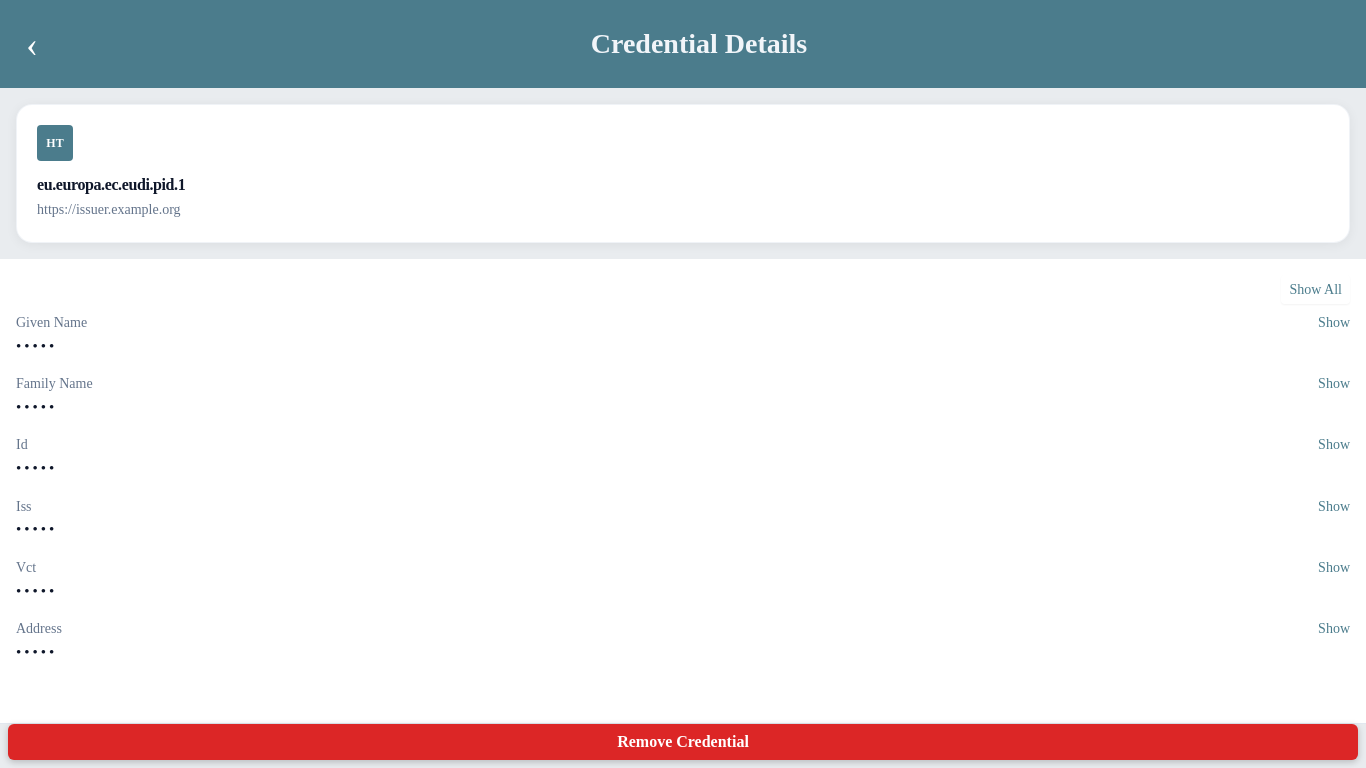
CredentialDetailPage › renders object claim values as formatted JSON strings when revealed
This screenshot has width=1366, height=768.
What coordinates should you click on to do the following:
click the button with aria-label "Show Address"
I would click on:
 (1334, 628)
Its box is [1314,618,1354,639].
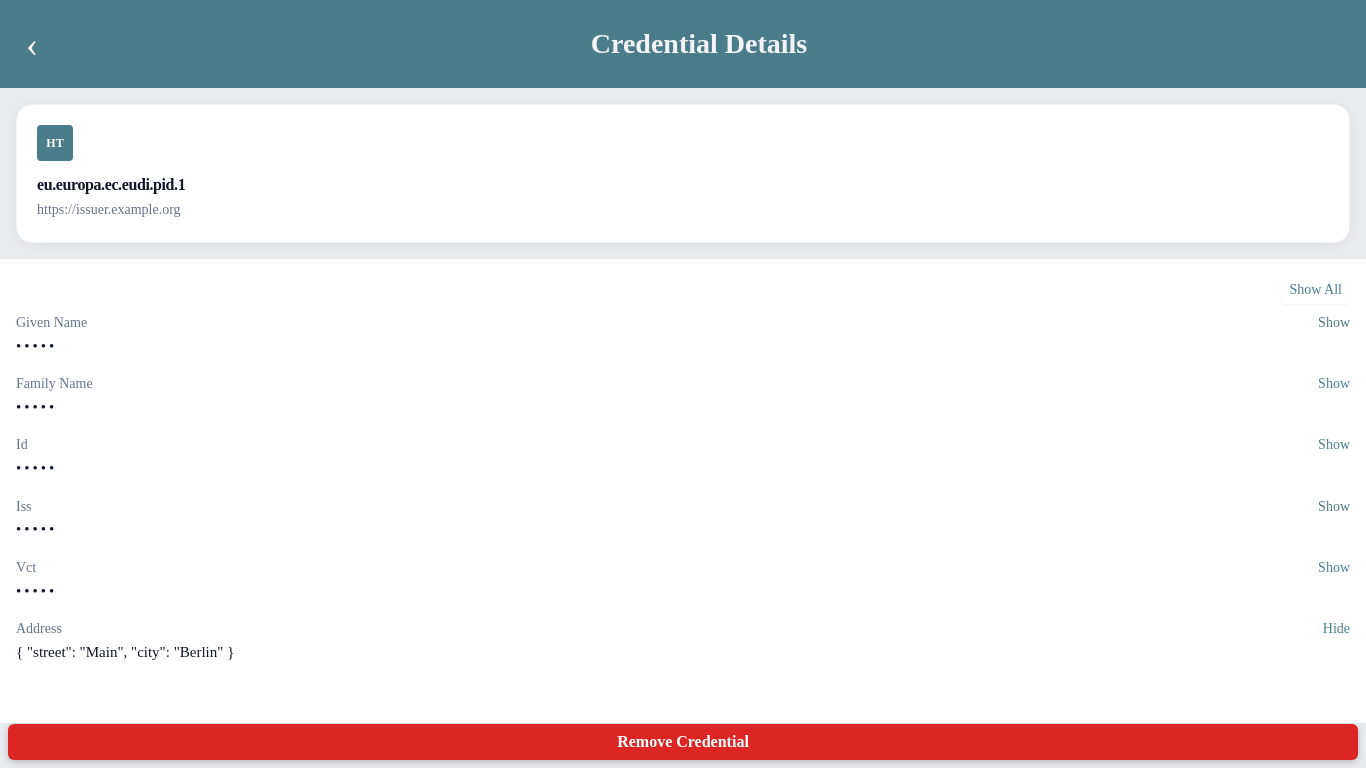
Check: the text labelled "{ \"street\": \"Main\", \"city\": \"Berlin\" }" is shown, box [16,644,234,660]
